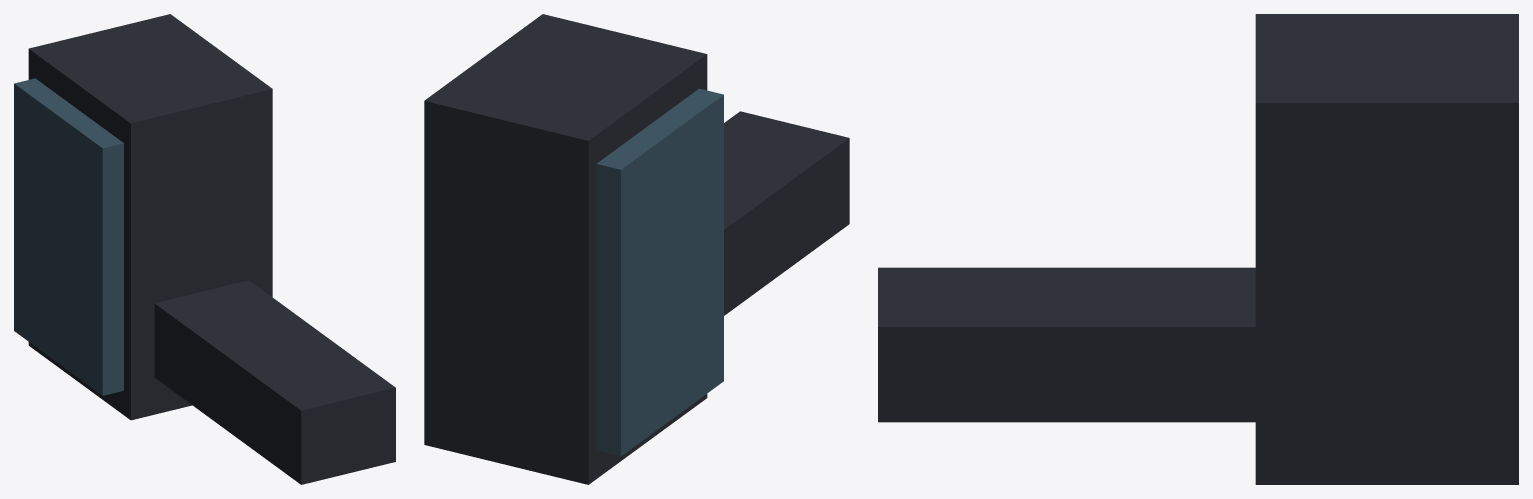
File: mirror_l.obj
3 renders of one model, left to right at view 1: azimuth 30°, elevation 25°; view 2: azimuth 150°, elevation 25°; view 3: azimuth 270°, elevation 25°, orthographic. The views are drawn at different scales.
Visible parts, largest first — view 1: Cube; view 2: Cube; view 3: Cube.
Part boxes in pixels (left/top/right/bottom): Cube: left=14, top=14, right=395, bottom=484; Cube: left=424, top=14, right=849, bottom=484; Cube: left=878, top=14, right=1518, bottom=484.
Bounding box in the file's own units: 0.069 × 0.12 × 0.1825.
